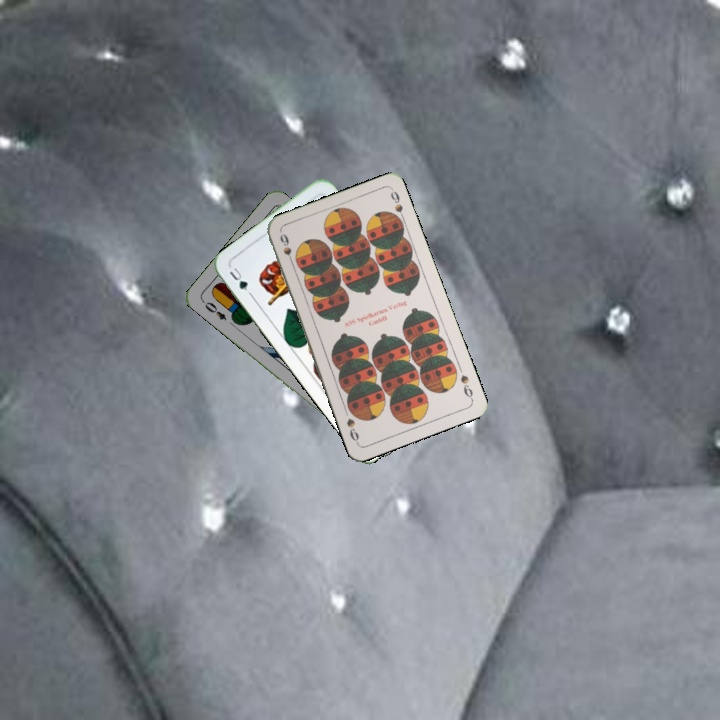EO: (198, 296, 229, 323)
GU: (225, 263, 254, 298)
S9: (276, 229, 297, 269), (456, 371, 475, 402)
